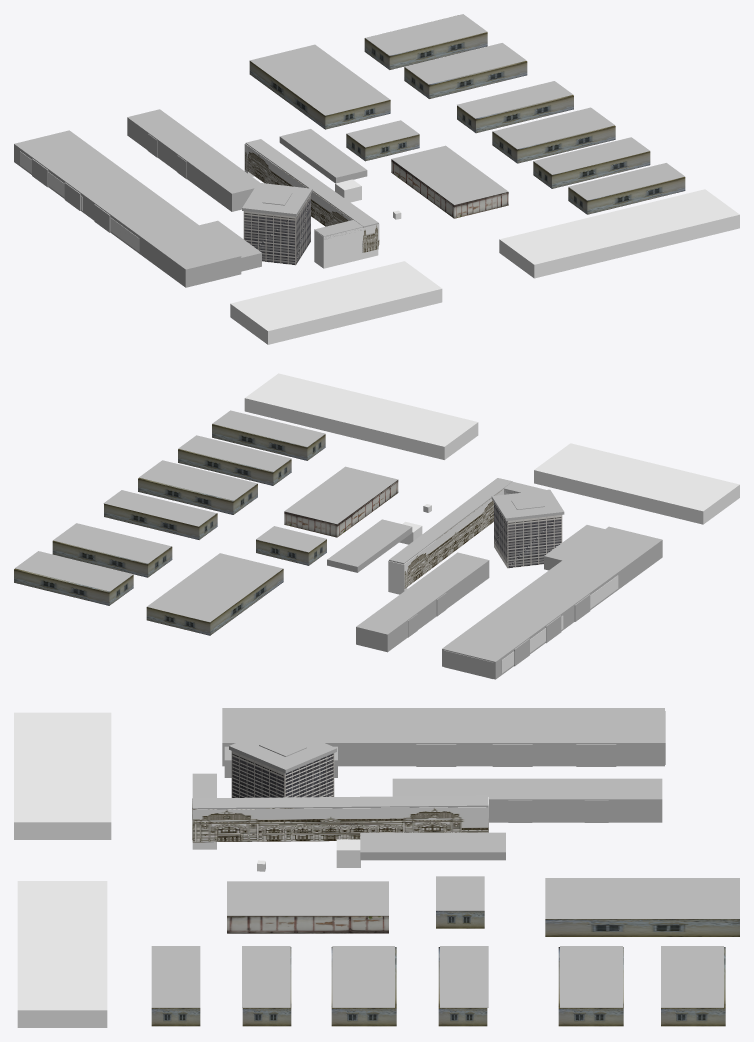
Rendered from GameObject.fbx.
The picture shows the model from 3 angles, top to bottom: view 1: azimuth 30°, elevation 25°; view 2: azimuth 150°, elevation 25°; view 3: azimuth 270°, elevation 25°; orthographic projection. The views are drawn at different scales.
Visible parts, largest first — view 1: Cube__12_, Cube__27_, Cube__13_, Cube__37_, Cube__23_, Cube__39_, Cube__4_, Cube__35_, Cube__36_, Cube__33_, Cube__26_, Cube__44_ (+19 smaller); view 2: Cube__12_, Cube__27_, Cube__13_, Cube__37_, Cube__23_, Cube__39_, Cube__4_, Cube__2_, Cube__35_, Cube__36_, Cube__33_, Cube__44_ (+20 smaller); view 3: Cube__27_, Cube__12_, Cube__13_, Cube__2_, Cube__37_, Cube__23_, Cube__39_, Cube__26_, Cube__44_, Cube__33_, Cube__35_, Cube__36_ (+25 smaller).
Part boxes in pixels (left/top/right/bottom): Cube__12_: left=499, top=189, right=739, bottom=278; Cube__27_: left=14, top=130, right=241, bottom=270; Cube__13_: left=230, top=261, right=442, bottom=344; Cube__37_: left=250, top=44, right=390, bottom=115; Cube__23_: left=127, top=109, right=259, bottom=194; Cube__39_: left=391, top=145, right=508, bottom=204; Cube__4_: left=243, top=194, right=310, bottom=265; Cube__35_: left=405, top=43, right=526, bottom=84; Cube__36_: left=365, top=14, right=487, bottom=55; Cube__33_: left=493, top=107, right=614, bottom=149; Cube__26_: left=14, top=145, right=241, bottom=287; Cube__44_: left=279, top=129, right=367, bottom=183; Cube__12_: left=244, top=373, right=478, bottom=459; Cube__27_: left=442, top=526, right=662, bottom=662; Cube__13_: left=534, top=443, right=739, bottom=524; Cube__37_: left=147, top=553, right=282, bottom=622; Cube__23_: left=356, top=552, right=489, bottom=635; Cube__39_: left=284, top=466, right=397, bottom=524; Cube__4_: left=494, top=503, right=562, bottom=568; Cube__2_: left=388, top=489, right=503, bottom=588; Cube__35_: left=53, top=523, right=171, bottom=563; Cube__36_: left=15, top=551, right=133, bottom=591; Cube__33_: left=139, top=460, right=257, bottom=500; Cube__44_: left=327, top=519, right=412, bottom=572; Cube__27_: left=222, top=708, right=664, bottom=744; Cube__12_: left=17, top=881, right=107, bottom=1027; Cube__13_: left=14, top=712, right=111, bottom=839; Cube__2_: left=192, top=800, right=488, bottom=842; Cube__37_: left=545, top=878, right=739, bottom=918; Cube__23_: left=392, top=778, right=662, bottom=800; Cube__39_: left=227, top=881, right=388, bottom=915; Cube__26_: left=222, top=744, right=664, bottom=766; Cube__44_: left=360, top=832, right=505, bottom=860; Cube__33_: left=332, top=946, right=394, bottom=1007; Cube__35_: left=560, top=946, right=622, bottom=1007; Cube__36_: left=661, top=946, right=723, bottom=1007.
Bounding box in the file's own units: 43632 × 4625 × 44780.
